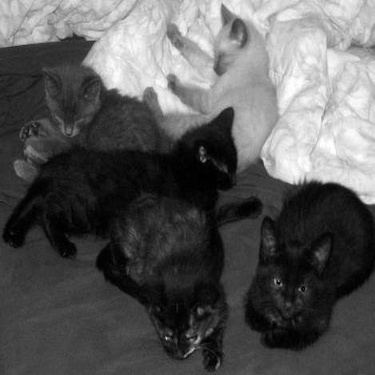cat: (5, 104, 262, 260), (94, 187, 226, 372), (243, 177, 372, 351), (11, 61, 160, 184)
